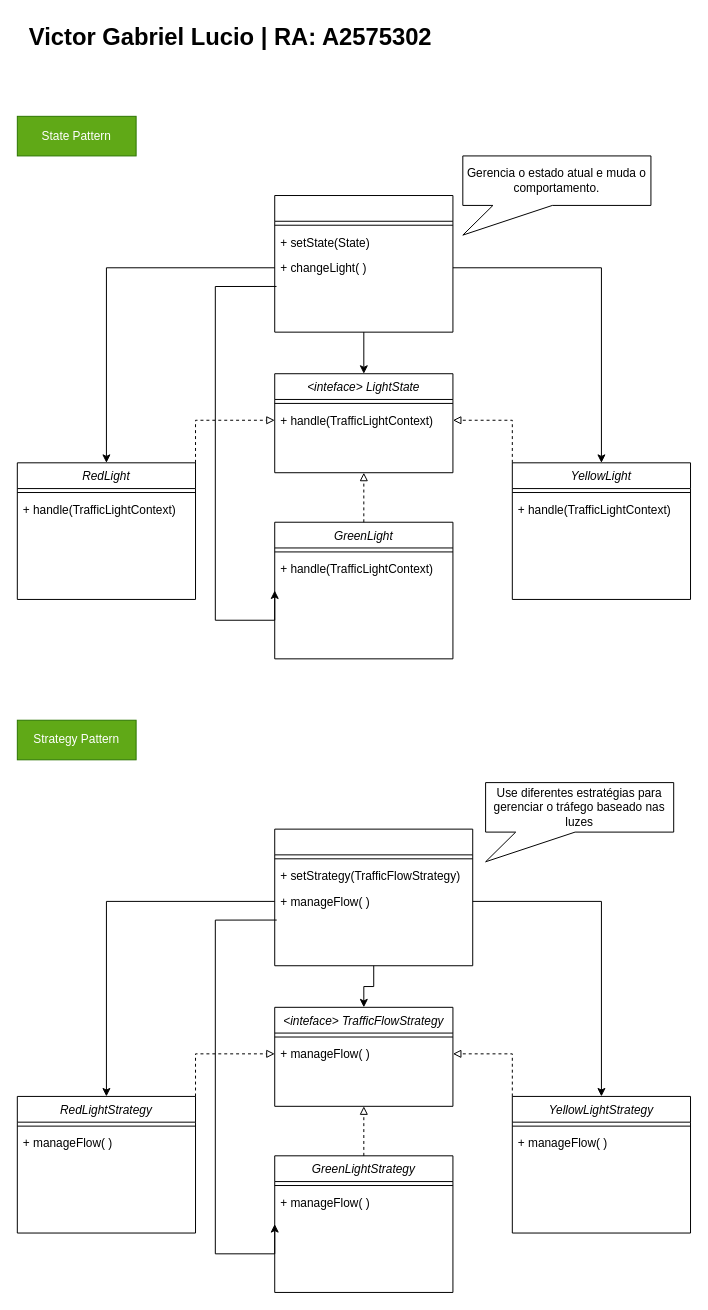
The diagram is 708 pixels wide and 1310 high, and some of its shapes have lost their labels. Here are the shapes that lost their labels. From the top down, the box of each, then its label:
(274, 195, 453, 332): TraficLightContext
(274, 828, 473, 966): TraficFlowContext
